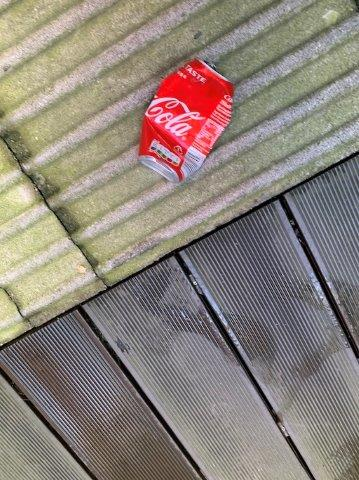kaleng: (139, 59, 234, 180)
